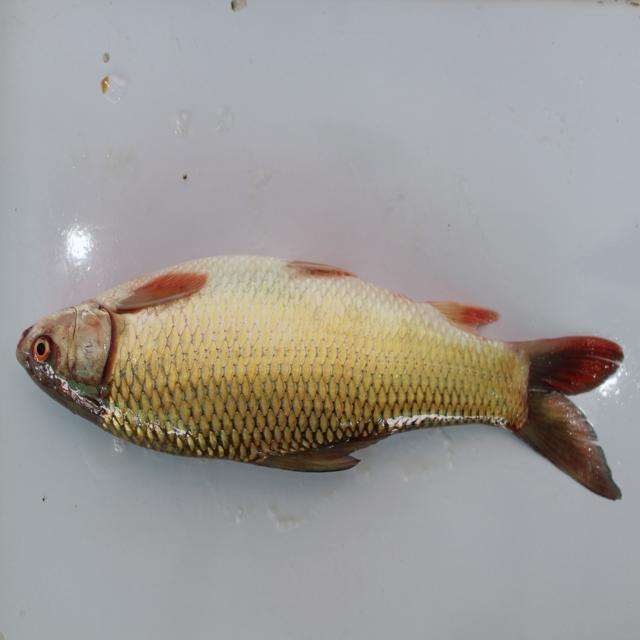Mori: (12, 248, 640, 507)
